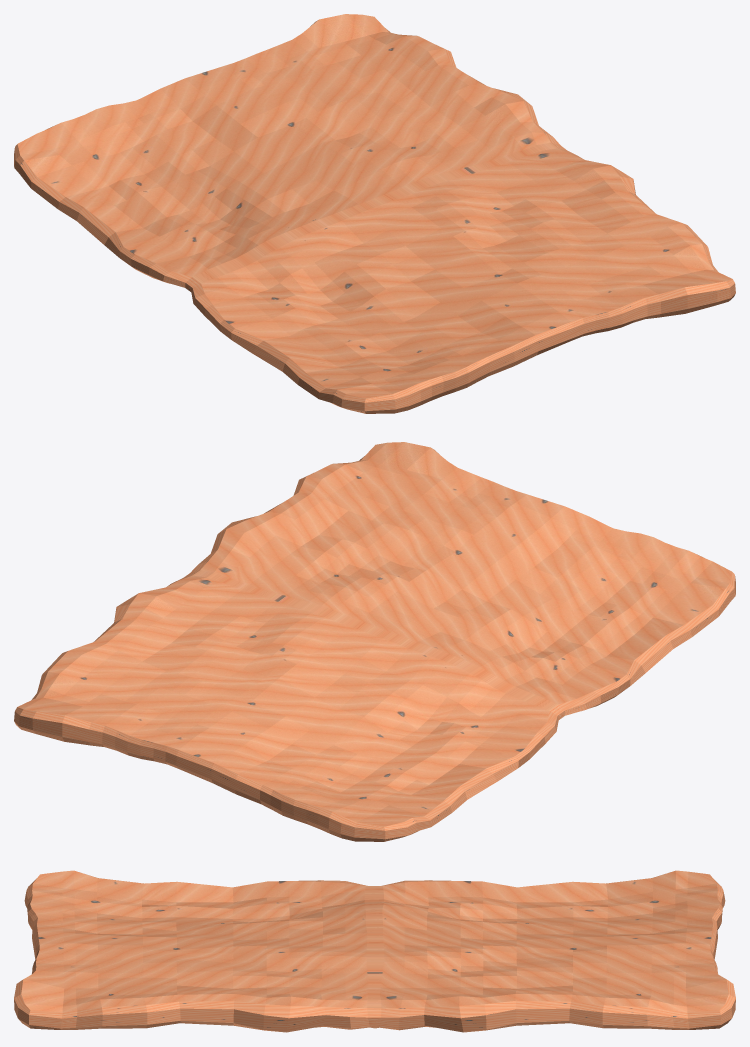
Rendered from Arena_V02_(Menos geometría).fbx.
The picture shows the model from 3 angles, top to bottom: view 1: azimuth 30°, elevation 25°; view 2: azimuth 150°, elevation 25°; view 3: azimuth 270°, elevation 25°; orthographic projection. The views are drawn at different scales.
Parts seen in each view (by area): view 1: pCube3; view 2: pCube3; view 3: pCube3.
Part boxes in pixels (bbox=[...]): pCube3: bbox=[14, 14, 735, 413]; pCube3: bbox=[14, 442, 735, 841]; pCube3: bbox=[14, 870, 735, 1032].
Size of the model in its own units: 66.28 by 12.17 by 107.
Materials: 1 (1 with a texture image).
